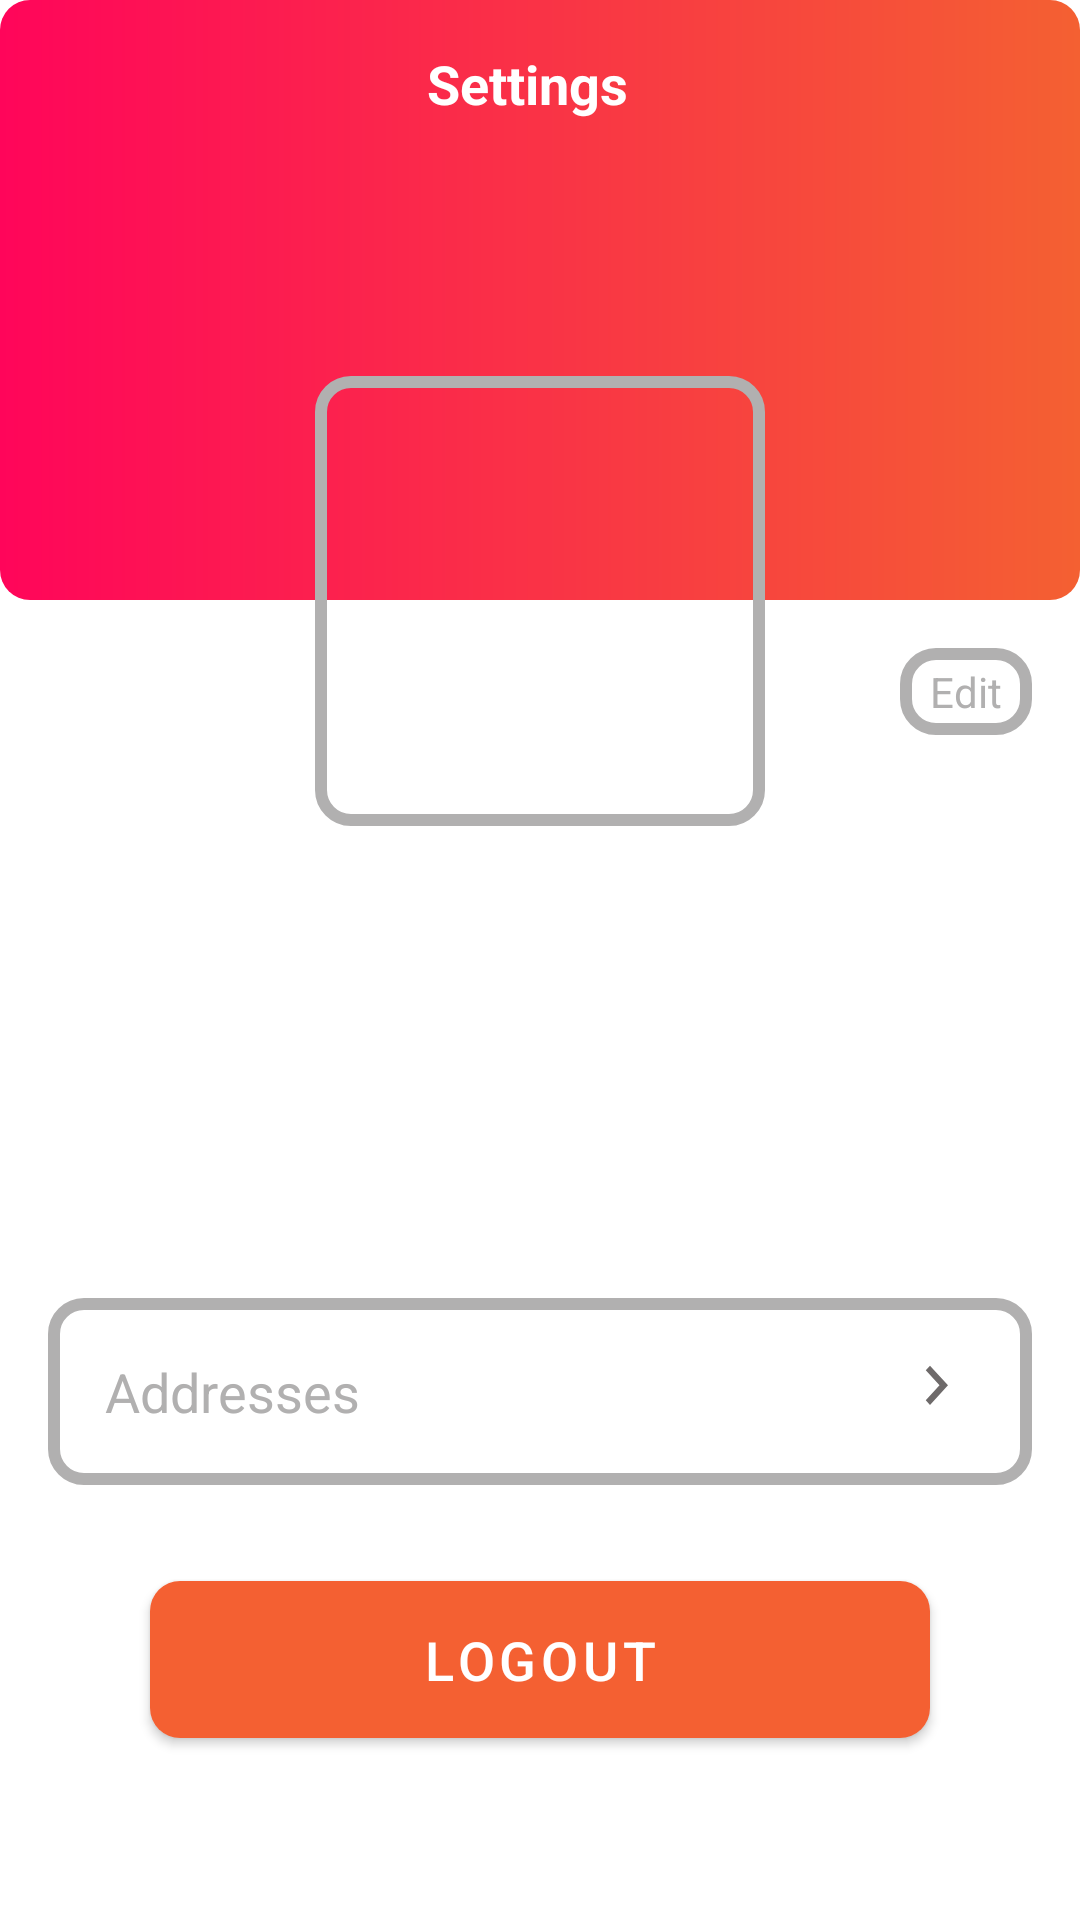

Where to tap for icons on this 1080*1920 app screen, as (x=x, y=y):
keyboard arrow right: (x=937, y=1385)
